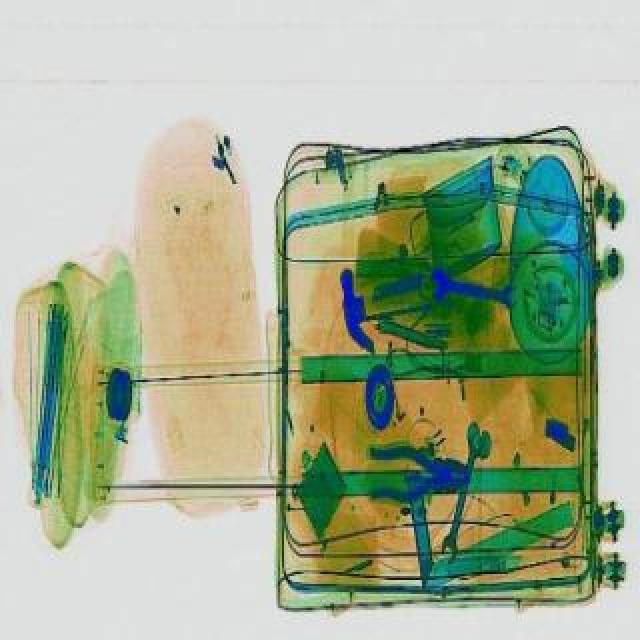scissors: (438, 428, 486, 560), (426, 264, 520, 308)
wrench: (366, 440, 470, 498)
